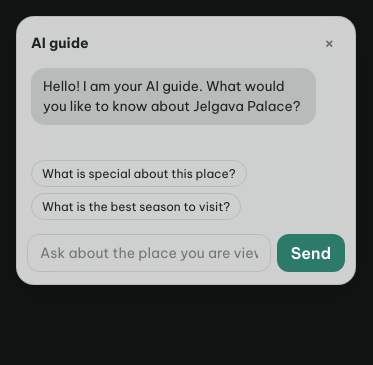
Test case: AiGuide › submits with Enter, streams text, and blocks no-longer-busy state after completion
Check: the text "Hello! I am your AI guide" is shown, box [43,77,300,115]
Type "Tell me more" into the field with placeholder "Ask about the place you are viewing…".
click(149, 253); type("Tell me more")  # box [27,234,271,272]
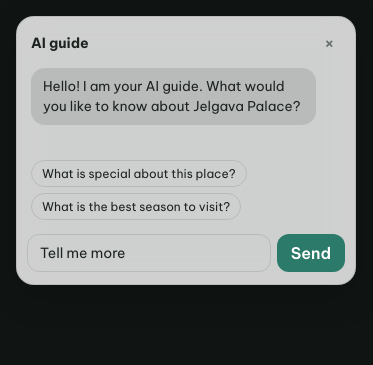
Press Enter in the field with placeholder "Ask about the place you are viewing…", box [27,234,271,272]
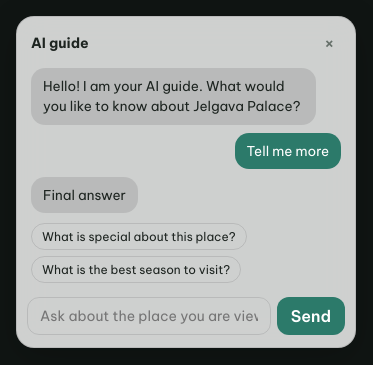
Check: the text "Final answer" is shown, box [31,177,138,213]
